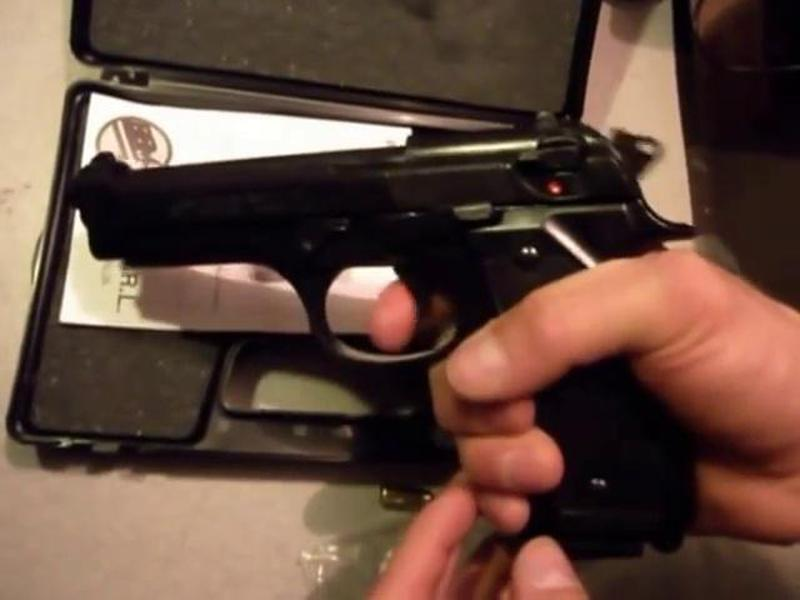Pistola: (73, 101, 716, 563)
